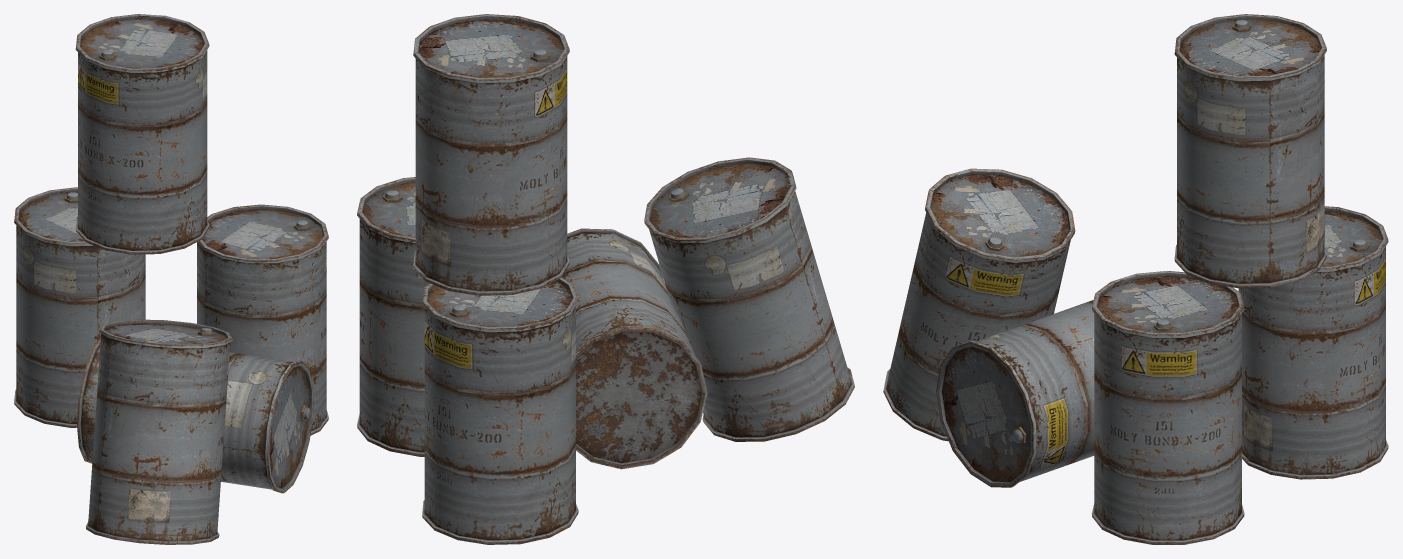
The model's file is BARRILES.fbx.
3 views of the same model, side by side, from view 1: azimuth 30°, elevation 25°; view 2: azimuth 150°, elevation 25°; view 3: azimuth 270°, elevation 25° (orthographic). The views are drawn at different scales.
Parts seen in each view (by area): view 1: COM_Box_MetalBoxA_LOWDrum01_SM005, COM_Box_MetalBoxA_LOWDrum01_SM006, COM_Box_MetalBoxA_LOWDrum01_SM004, COM_Box_MetalBoxA_LOWDrum01_SM02, COM_Box_MetalBoxA_LOWDrum01_SM003; view 2: COM_Box_MetalBoxA_LOWDrum01_SM005, COM_Box_MetalBoxA_LOWDrum01_SM006, COM_Box_MetalBoxA_LOWDrum01_SM004, COM_Box_MetalBoxA_LOWDrum01_SM003, COM_Box_MetalBoxA_LOWDrum01_SM02; view 3: COM_Box_MetalBoxA_LOWDrum01_SM005, COM_Box_MetalBoxA_LOWDrum01_SM02, COM_Box_MetalBoxA_LOWDrum01_SM004, COM_Box_MetalBoxA_LOWDrum01_SM006, COM_Box_MetalBoxA_LOWDrum01_SM003.
Part boxes in pixels (box(x1,y1,x2,y2)): COM_Box_MetalBoxA_LOWDrum01_SM005: box(75, 14, 209, 254); COM_Box_MetalBoxA_LOWDrum01_SM006: box(86, 319, 232, 544); COM_Box_MetalBoxA_LOWDrum01_SM004: box(14, 187, 145, 427); COM_Box_MetalBoxA_LOWDrum01_SM02: box(197, 204, 328, 435); COM_Box_MetalBoxA_LOWDrum01_SM003: box(77, 337, 313, 493); COM_Box_MetalBoxA_LOWDrum01_SM005: box(413, 14, 569, 295); COM_Box_MetalBoxA_LOWDrum01_SM006: box(644, 157, 854, 441); COM_Box_MetalBoxA_LOWDrum01_SM004: box(422, 277, 578, 544); COM_Box_MetalBoxA_LOWDrum01_SM003: box(562, 228, 707, 469); COM_Box_MetalBoxA_LOWDrum01_SM02: box(357, 177, 429, 456); COM_Box_MetalBoxA_LOWDrum01_SM005: box(1174, 14, 1326, 288); COM_Box_MetalBoxA_LOWDrum01_SM02: box(1092, 271, 1244, 544); COM_Box_MetalBoxA_LOWDrum01_SM004: box(1238, 206, 1388, 479); COM_Box_MetalBoxA_LOWDrum01_SM006: box(883, 168, 1075, 441); COM_Box_MetalBoxA_LOWDrum01_SM003: box(936, 300, 1094, 487).
Bounding box in the file's own units: 162 × 189 × 197.
